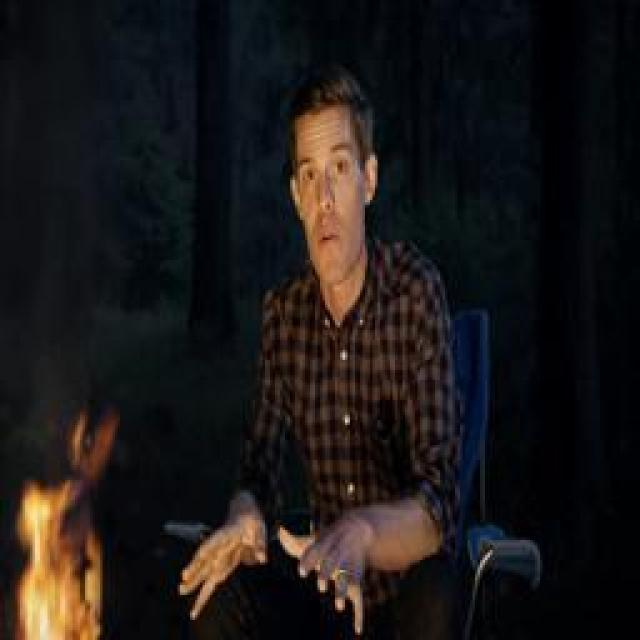Fire: (14, 415, 118, 640)
